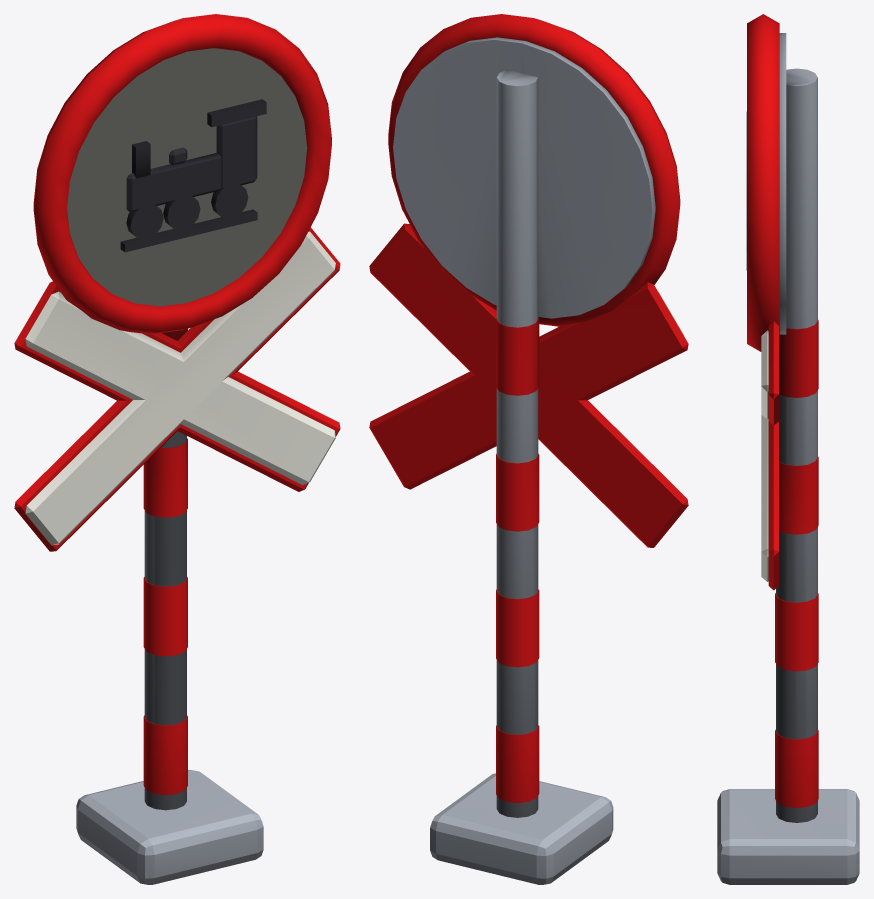
The model's file is Sign_Railway.fbx.
3 renders of one model, left to right at view 1: azimuth 30°, elevation 25°; view 2: azimuth 150°, elevation 25°; view 3: azimuth 270°, elevation 25°, orthographic. The views are drawn at different scales.
Visible parts, largest first — view 1: Sign_Railway; view 2: Sign_Railway; view 3: Sign_Railway.
Boxes of the visible parts, <box> form: Sign_Railway: <box>14,14,340,884</box>; Sign_Railway: <box>369,14,688,884</box>; Sign_Railway: <box>717,14,859,884</box>.
Size of the model in its own units: 0.8856 by 2.18 by 0.34.
